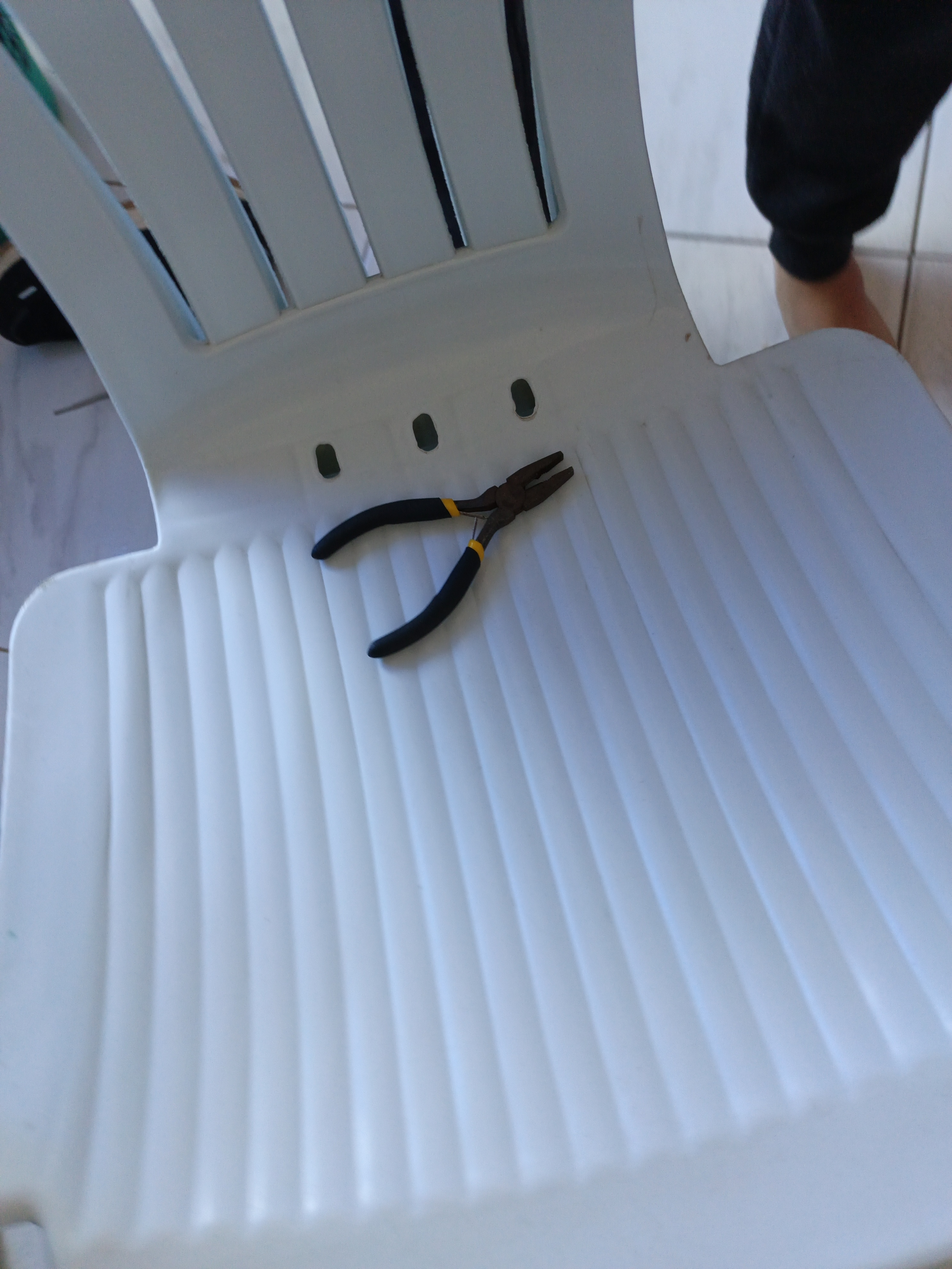Pinzas: (312, 450, 575, 658)
